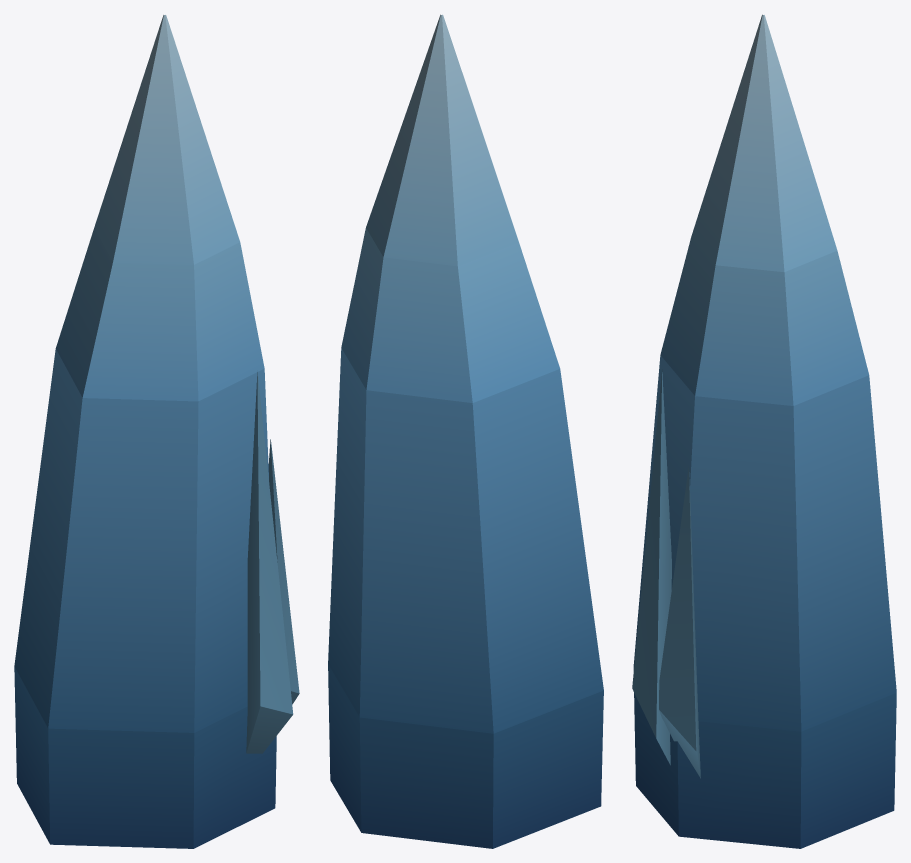
Rendered from ice.shard-v3.glb.
3 views of the same model, side by side, from view 1: azimuth 30°, elevation 25°; view 2: azimuth 150°, elevation 25°; view 3: azimuth 270°, elevation 25° (orthographic).
Parts seen in each view (by area): view 1: ice.shard; view 2: ice.shard; view 3: ice.shard.
Part boxes in pixels (left/top/right/bottom): ice.shard: left=14, top=15, right=299, bottom=848; ice.shard: left=328, top=14, right=603, bottom=848; ice.shard: left=632, top=14, right=896, bottom=848.
Size of the model in its own units: 0.4536 by 1.4 by 0.426.
